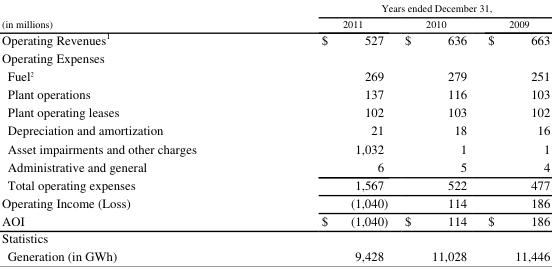table: (1, 0, 549, 263)
table column: (1, 0, 258, 263), (258, 0, 395, 263), (395, 0, 476, 263), (476, 0, 549, 263)
table column header: (1, 0, 549, 29)
table projected row header: (1, 48, 549, 66), (1, 228, 549, 246)
table row: (1, 29, 549, 48), (1, 119, 549, 138), (1, 48, 549, 66), (1, 66, 549, 84), (1, 101, 549, 119), (1, 138, 549, 156), (1, 156, 549, 174), (1, 174, 549, 192), (1, 192, 549, 210), (1, 210, 549, 228), (1, 228, 549, 246), (1, 84, 549, 101), (1, 246, 549, 263), (1, 0, 549, 15), (1, 15, 549, 29)
table spanning cell: (1, 0, 258, 29), (258, 0, 549, 15)
